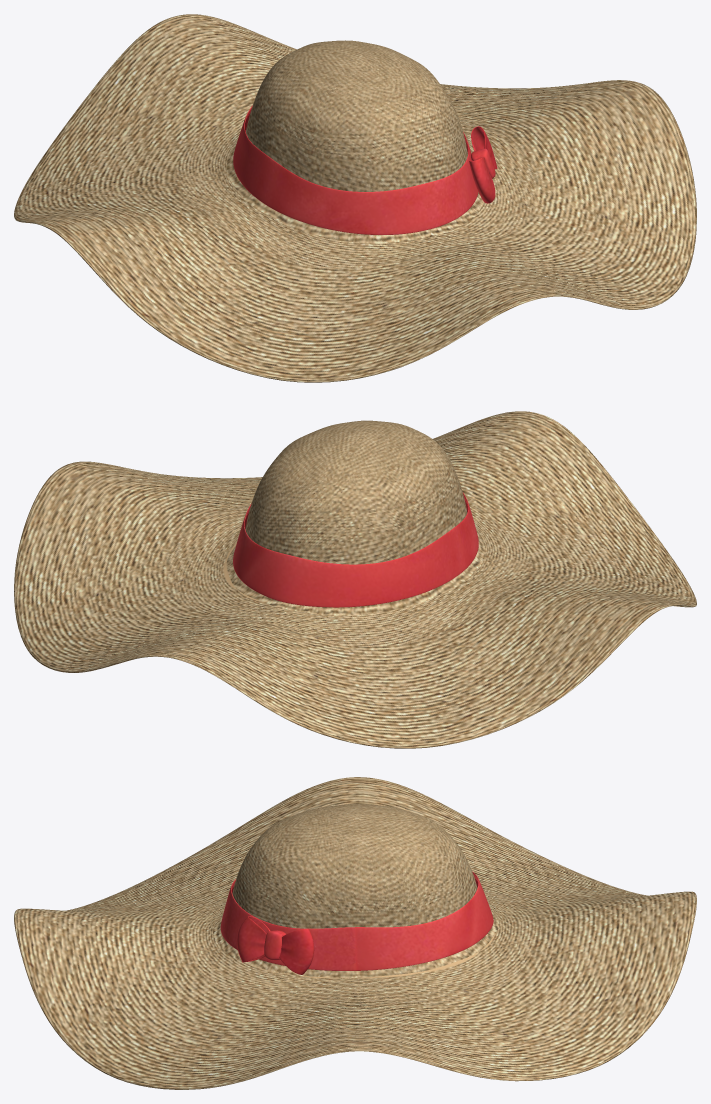
File: sunhat.glb
3 renders of one model, top to bottom at view 1: azimuth 30°, elevation 25°; view 2: azimuth 150°, elevation 25°; view 3: azimuth 270°, elevation 25°, orthographic. The views are drawn at different scales.
Parts seen in each view (by area): view 1: 10155_sunhat_v1-L3; view 2: 10155_sunhat_v1-L3; view 3: 10155_sunhat_v1-L3.
Part boxes in pixels (box(x1,y1,x2,y2)): 10155_sunhat_v1-L3: box(14, 14, 696, 382); 10155_sunhat_v1-L3: box(14, 411, 696, 748); 10155_sunhat_v1-L3: box(14, 777, 696, 1089).
Bounding box in the file's own units: 20.92 × 6.11 × 22.01.
Materials: 1 (1 with a texture image).
